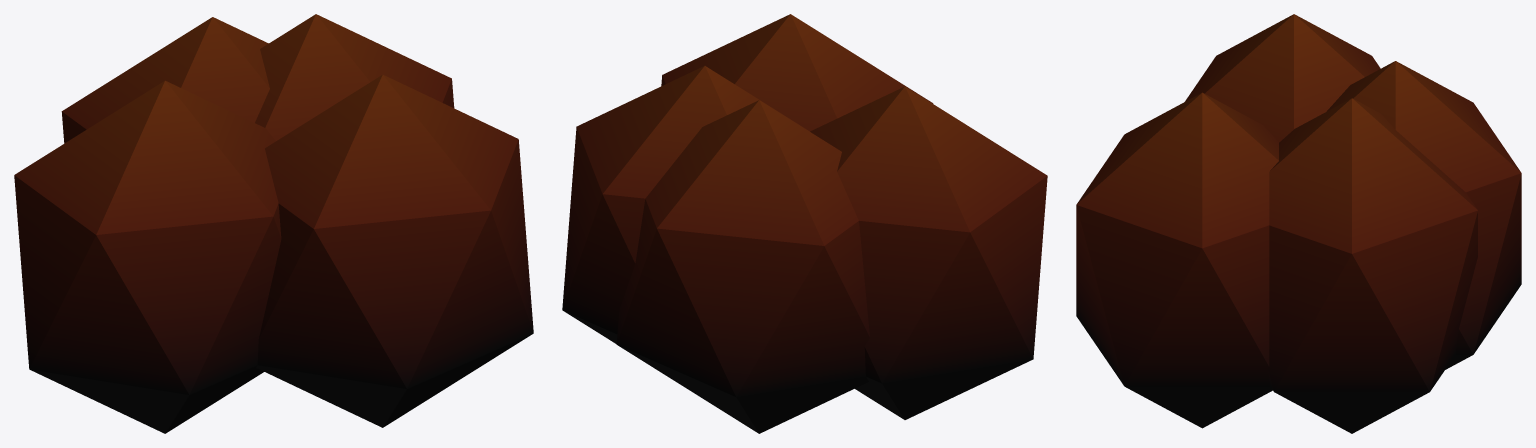
Rendered from shrub.glb.
3 views of the same model, side by side, from view 1: azimuth 30°, elevation 25°; view 2: azimuth 150°, elevation 25°; view 3: azimuth 270°, elevation 25° (orthographic). The views are drawn at different scales.
Visible parts, largest first — view 1: leaves_shrub.001, leaves_shrub.002, leaves_shrub.003, leaves_shrub; view 2: leaves_shrub, leaves_shrub.002, leaves_shrub.003, leaves_shrub.001; view 3: leaves_shrub.003, leaves_shrub.001, leaves_shrub, leaves_shrub.002.
Part boxes in pixels (x1,y1,x2,y2): leaves_shrub.001: (256, 74, 533, 427); leaves_shrub.002: (14, 80, 281, 433); leaves_shrub.003: (255, 14, 454, 140); leaves_shrub: (61, 17, 269, 143); leaves_shrub: (616, 100, 869, 433); leaves_shrub.002: (810, 86, 1047, 419); leaves_shrub.003: (562, 66, 809, 343); leaves_shrub.001: (661, 14, 933, 131); leaves_shrub.003: (1268, 98, 1477, 433); leaves_shrub.001: (1076, 92, 1278, 428); leaves_shrub: (1327, 61, 1521, 369); leaves_shrub.002: (1185, 14, 1380, 142).
Size of the model in its own units: 1.34 by 1 by 1.2.
